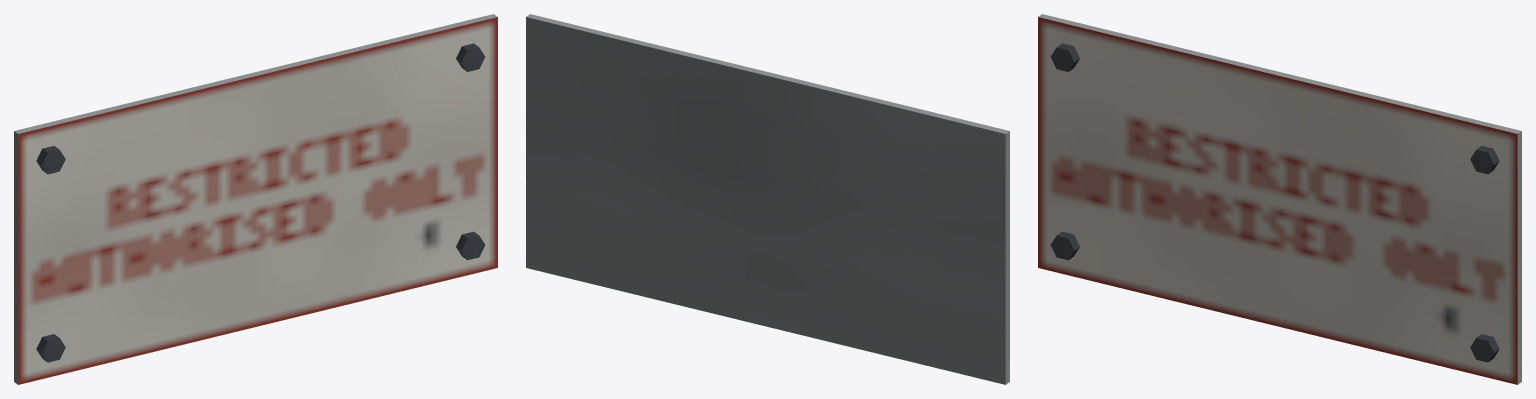
The model's file is sign_bunker_restricted.glb.
The picture shows the model from 3 angles, left to right: view 1: azimuth 30°, elevation 25°; view 2: azimuth 150°, elevation 25°; view 3: azimuth 330°, elevation 25°; orthographic projection.
Parts seen in each view (by area): view 1: sign_bunker_restricted; view 2: sign_bunker_restricted; view 3: sign_bunker_restricted.
Part boxes in pixels (box(x1,y1,x2,y2)): sign_bunker_restricted: box(14, 14, 497, 384); sign_bunker_restricted: box(526, 14, 1009, 384); sign_bunker_restricted: box(1038, 14, 1521, 384).
Bounding box in the file's own units: 0.4 × 0.2 × 0.014.
Materials: 1 (1 with a texture image).
